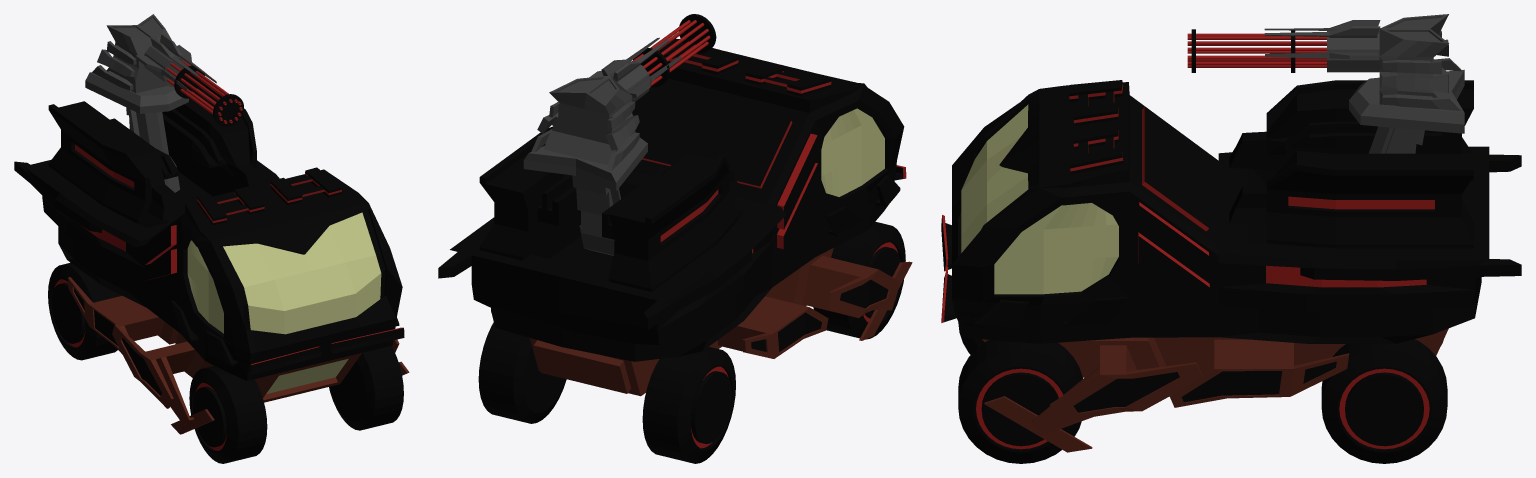
File: GuttlingCar2.fbx
The picture shows the model from 3 angles, left to right: view 1: azimuth 30°, elevation 25°; view 2: azimuth 150°, elevation 25°; view 3: azimuth 270°, elevation 25°; orthographic projection. The views are drawn at different scales.
Visible parts, largest first — view 1: Cabine_Cube.002, FrontWheels_Cylinder, CarBase_Cube.001, BaseGun_Cube.004, BackWheels_Cylinder.002, BaseCannon_Cube.003, Cylinder.015_Cylinder.019, Cylinder.014_Cylinder.020; view 2: Cabine_Cube.002, BackWheels_Cylinder.002, CarBase_Cube.001, BaseGun_Cube.004, BaseCannon_Cube.003, FrontWheels_Cylinder, Cylinder.015_Cylinder.019, Cylinder.014_Cylinder.020; view 3: Cabine_Cube.002, CarBase_Cube.001, BackWheels_Cylinder.002, FrontWheels_Cylinder, BaseGun_Cube.004, BaseCannon_Cube.003, Cylinder.011_Cylinder.014.
Boxes of the visible parts, left/top/right/bottom form: Cabine_Cube.002: left=14, top=81, right=404, bottom=380; FrontWheels_Cylinder: left=189, top=346, right=403, bottom=463; CarBase_Cube.001: left=68, top=277, right=409, bottom=434; BaseGun_Cube.004: left=92, top=14, right=216, bottom=93; BackWheels_Cylinder.002: left=48, top=262, right=121, bottom=360; BaseCannon_Cube.003: left=85, top=72, right=188, bottom=192; Cylinder.015_Cylinder.019: left=213, top=94, right=243, bottom=126; Cylinder.014_Cylinder.020: left=174, top=65, right=204, bottom=98; Cabine_Cube.002: left=438, top=38, right=906, bottom=361; BackWheels_Cylinder.002: left=478, top=322, right=735, bottom=463; CarBase_Cube.001: left=530, top=248, right=912, bottom=396; BaseGun_Cube.004: left=531, top=37, right=681, bottom=170; BaseCannon_Cube.003: left=523, top=137, right=647, bottom=255; FrontWheels_Cylinder: left=813, top=221, right=905, bottom=339; Cylinder.015_Cylinder.019: left=679, top=14, right=716, bottom=53; Cylinder.014_Cylinder.020: left=633, top=48, right=669, bottom=87; Cabine_Cube.002: left=941, top=80, right=1521, bottom=343; CarBase_Cube.001: left=982, top=328, right=1448, bottom=452; BackWheels_Cylinder.002: left=1321, top=339, right=1447, bottom=463; FrontWheels_Cylinder: left=958, top=323, right=1082, bottom=463; BaseGun_Cube.004: left=1264, top=14, right=1461, bottom=110; BaseCannon_Cube.003: left=1349, top=69, right=1464, bottom=153; Cylinder.011_Cylinder.014: left=1187, top=61, right=1326, bottom=65.
Bounding box in the file's own units: 545 × 681 × 922.
